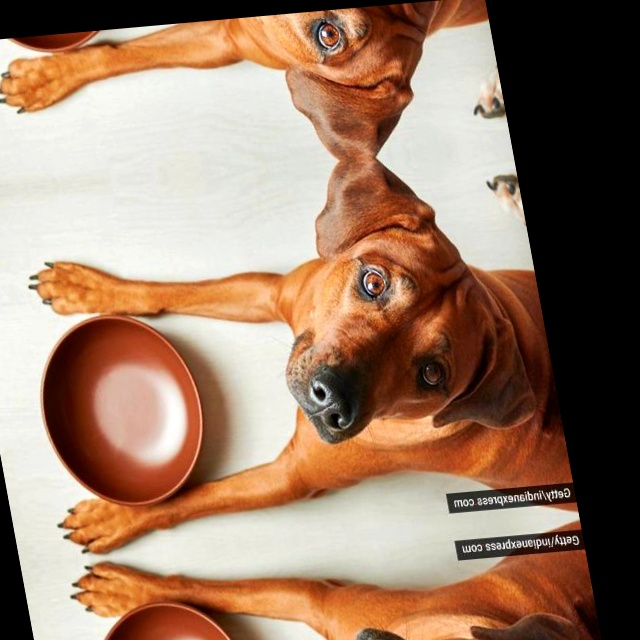dog: (212, 149, 507, 474), (185, 2, 451, 171), (292, 588, 546, 640)
